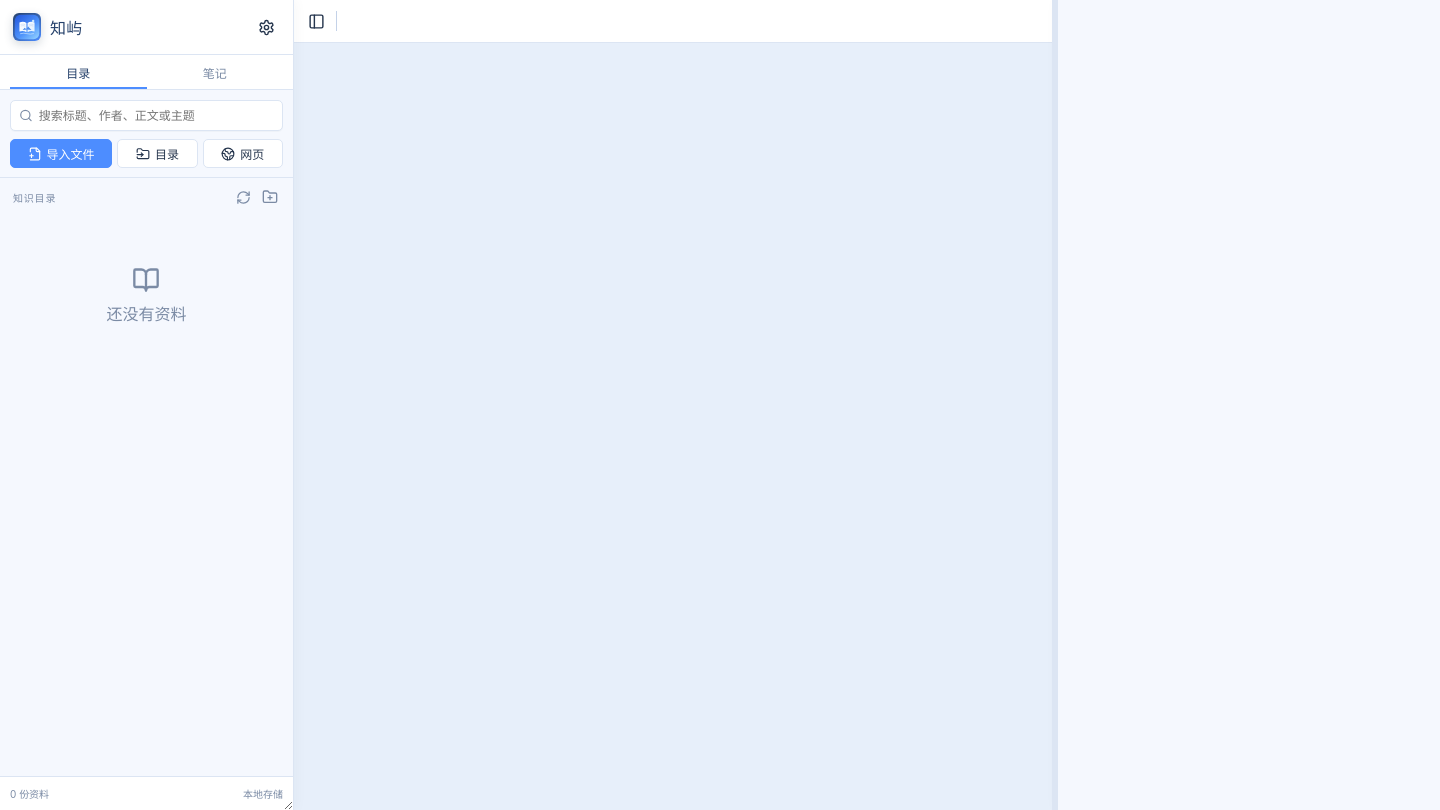
still reports a library-level failure and allows another refresh
Click the button named "刷新目录" at (244, 197), box [231,184,256,210]
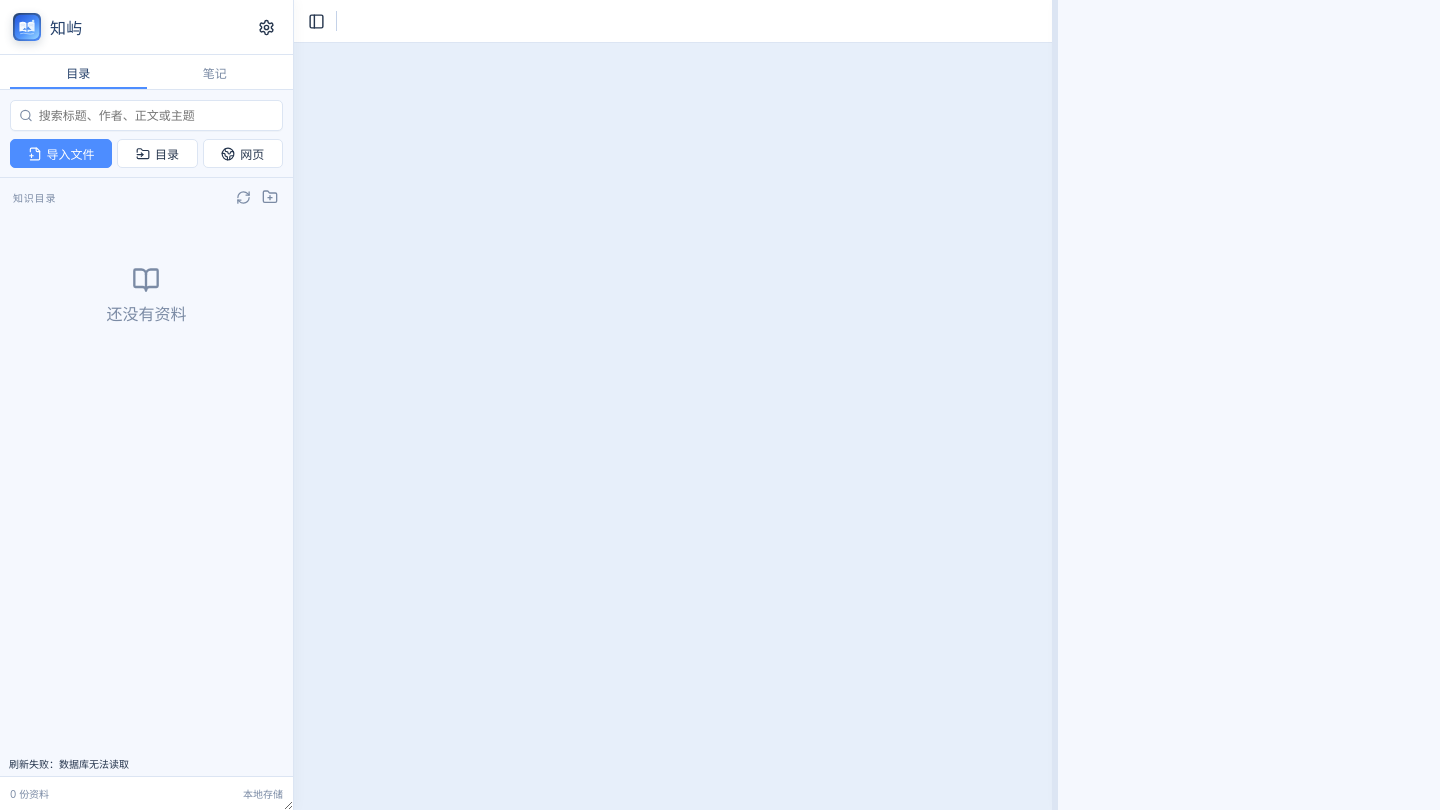
Check: the text "0 份资料" is shown, box [10,786,49,801]
Check: the text "刷新失败：数据库无法读取" is shown, box [9,758,129,770]
